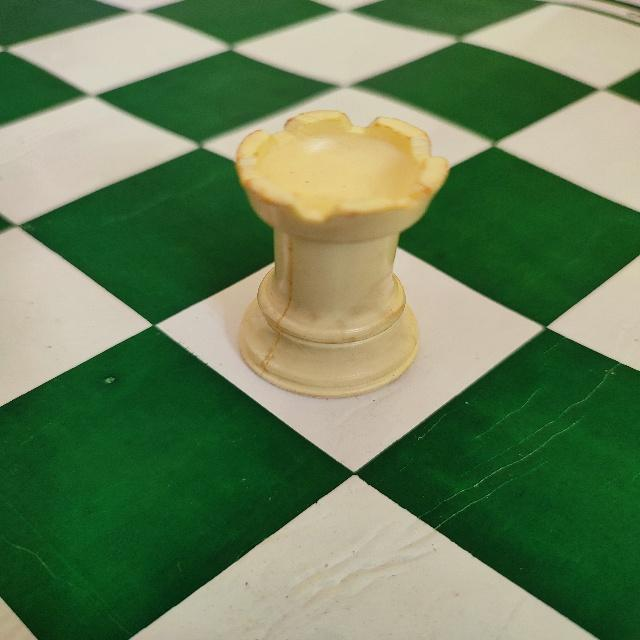Rook: (224, 104, 456, 406)
